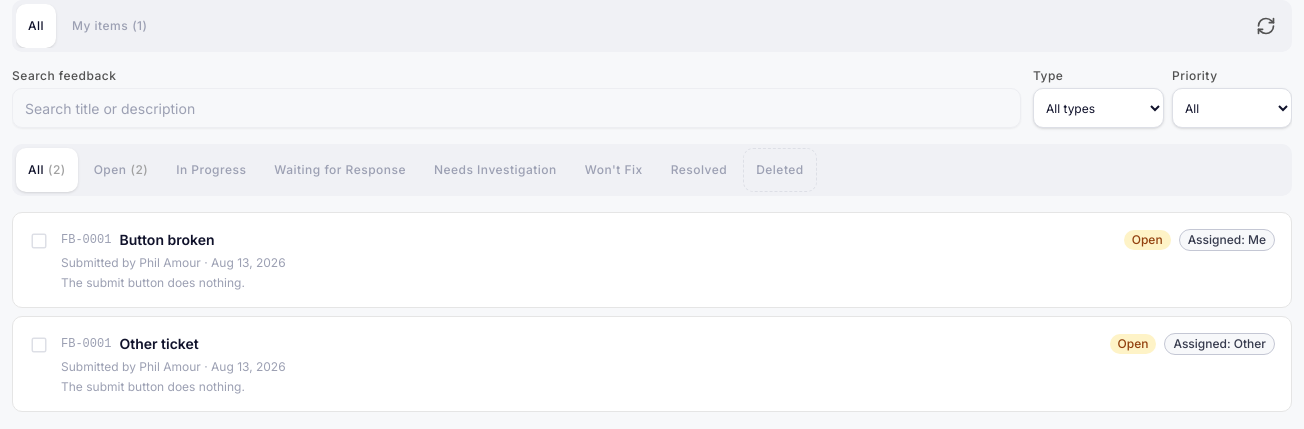
Test: FeedbackInbox — scope and filters › My items shows only feedback assigned to the current user
Expected: the heading "Button broken" is shown, [119,231,214,248]
Expected: the heading "Other ticket" is shown, [119,335,199,352]
Click the tab "My items(1)": (110, 26) [60,4,160,48]
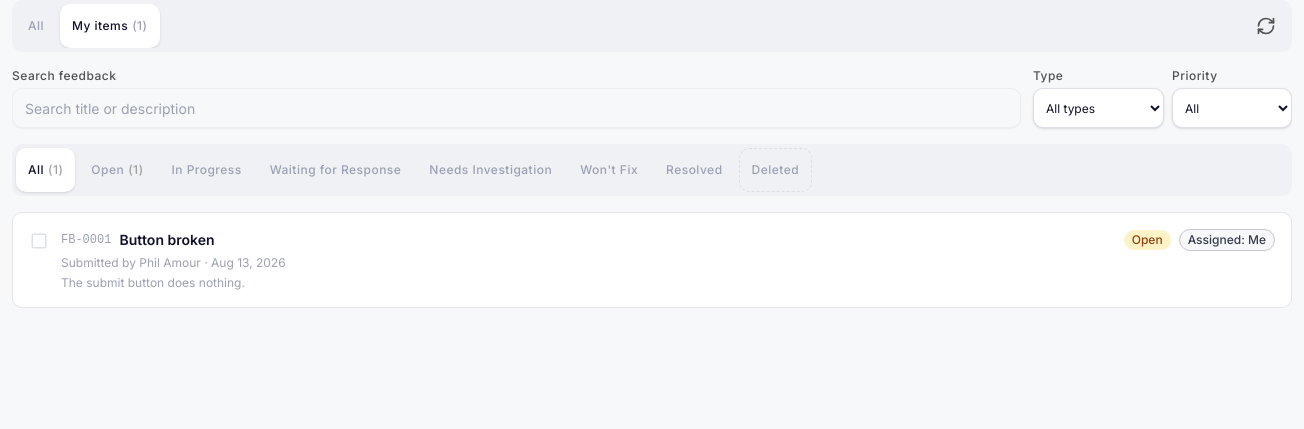
Expected: the heading "Button broken" is shown, [119,231,214,248]
Expected: the button "Other ticket" is gone
